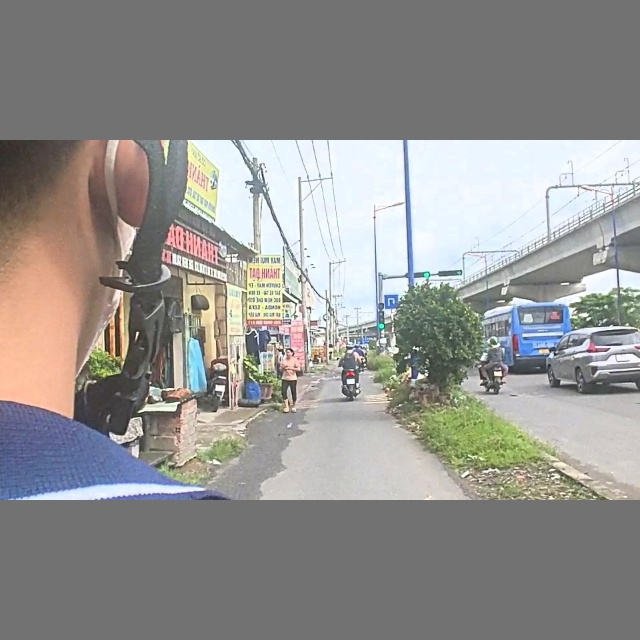I.409: (383, 292, 399, 310)
